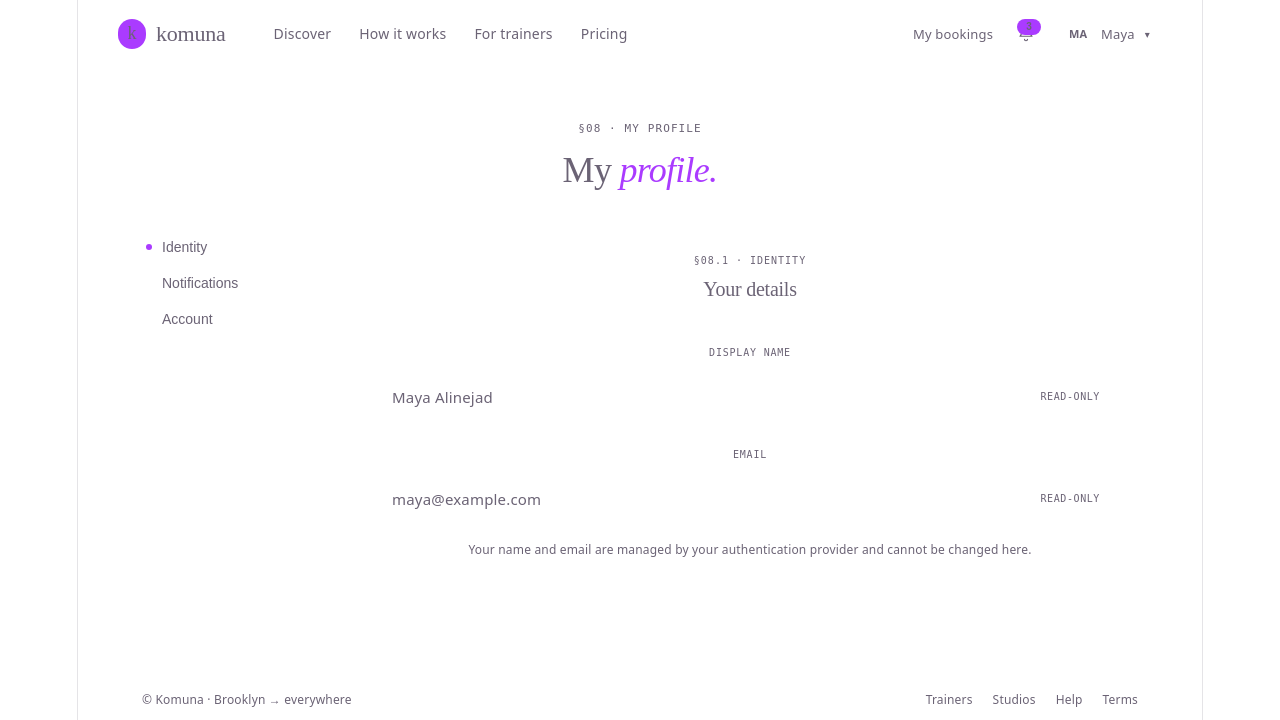
ProfilePage › notifications panel renders all 6 toggle rows
Click the button "Notifications". click: (224, 283)
box: left=134, top=266, right=314, bottom=300
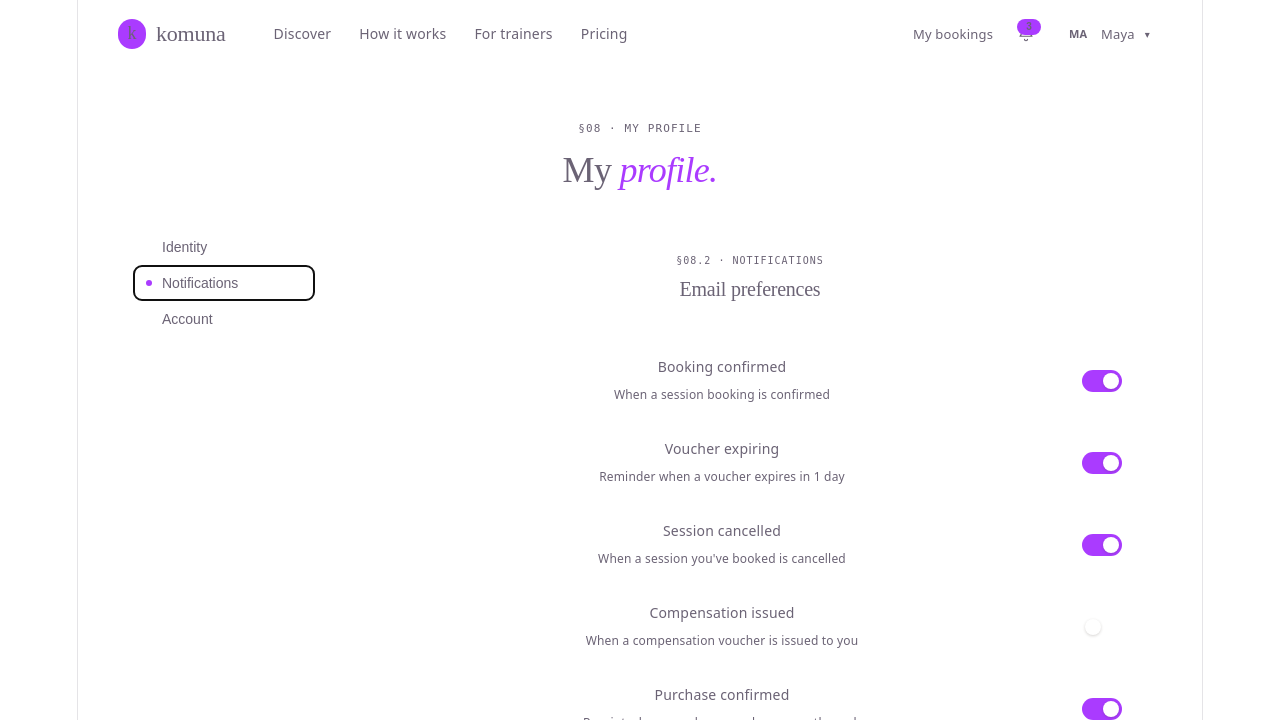
Result: the number of switches is 6
